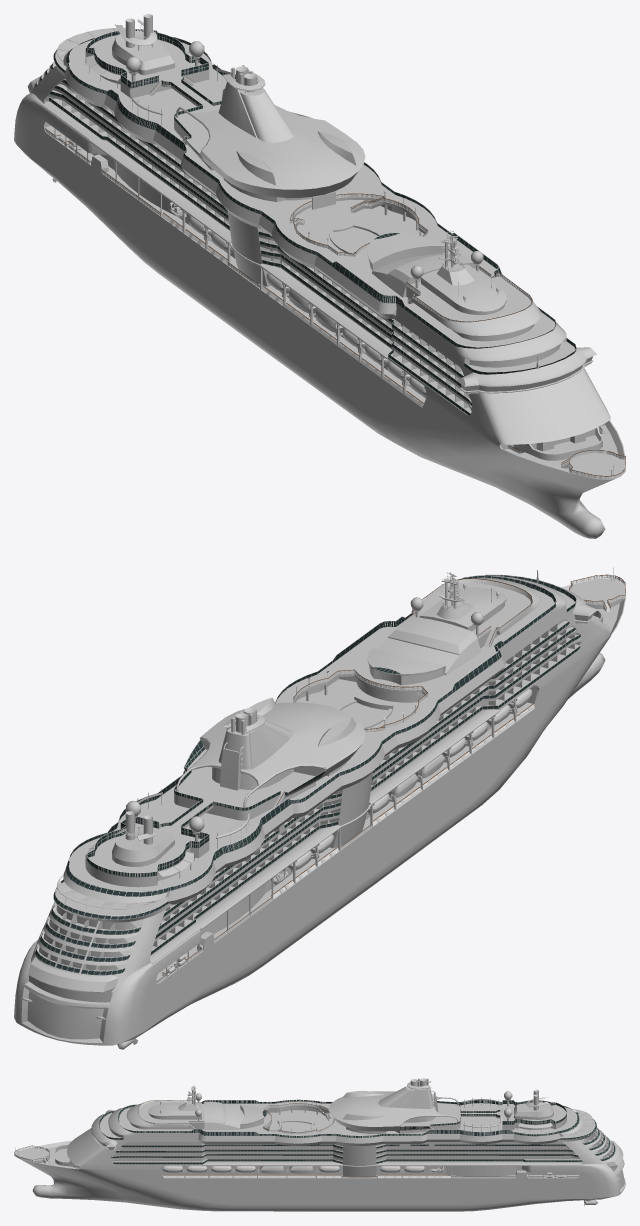
The model's file is uploads-files-3023526-LargeCruiseShip.obj.
3 views of the same model, one above another, from view 1: azimuth 30°, elevation 25°; view 2: azimuth 150°, elevation 25°; view 3: azimuth 270°, elevation 25° (orthographic). The views are drawn at different scales.
Parts seen in each view (by area): view 1: LargeCruiseShip; view 2: LargeCruiseShip; view 3: LargeCruiseShip.
Boxes of the visible parts, <box> form: LargeCruiseShip: <box>14,14,625,538</box>; LargeCruiseShip: <box>14,567,625,1049</box>; LargeCruiseShip: <box>14,1078,625,1211</box>.
Size of the model in its own units: 42.7 by 62.4 by 290.
